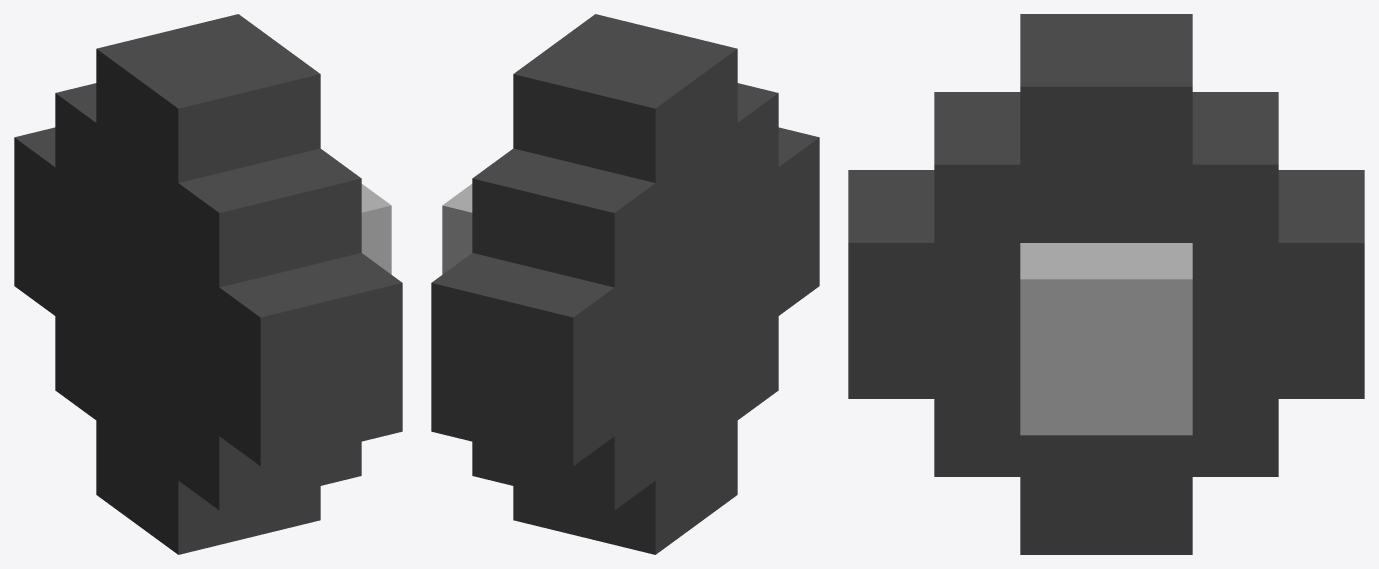
File: WheelBL.obj
3 renders of one model, left to right at view 1: azimuth 30°, elevation 25°; view 2: azimuth 150°, elevation 25°; view 3: azimuth 270°, elevation 25°, orthographic. The views are drawn at different scales.
Parts seen in each view (by area): view 1: WheelBR; view 2: WheelBR; view 3: WheelBR.
Boxes of the visible parts, x1=… form: WheelBR: x1=14, y1=14, x2=402, y2=554; WheelBR: x1=431, y1=14, x2=819, y2=554; WheelBR: x1=848, y1=14, x2=1364, y2=554.
Size of the model in its own units: 0.3 by 0.6 by 0.6.
Materials: 1 (1 with a texture image).
